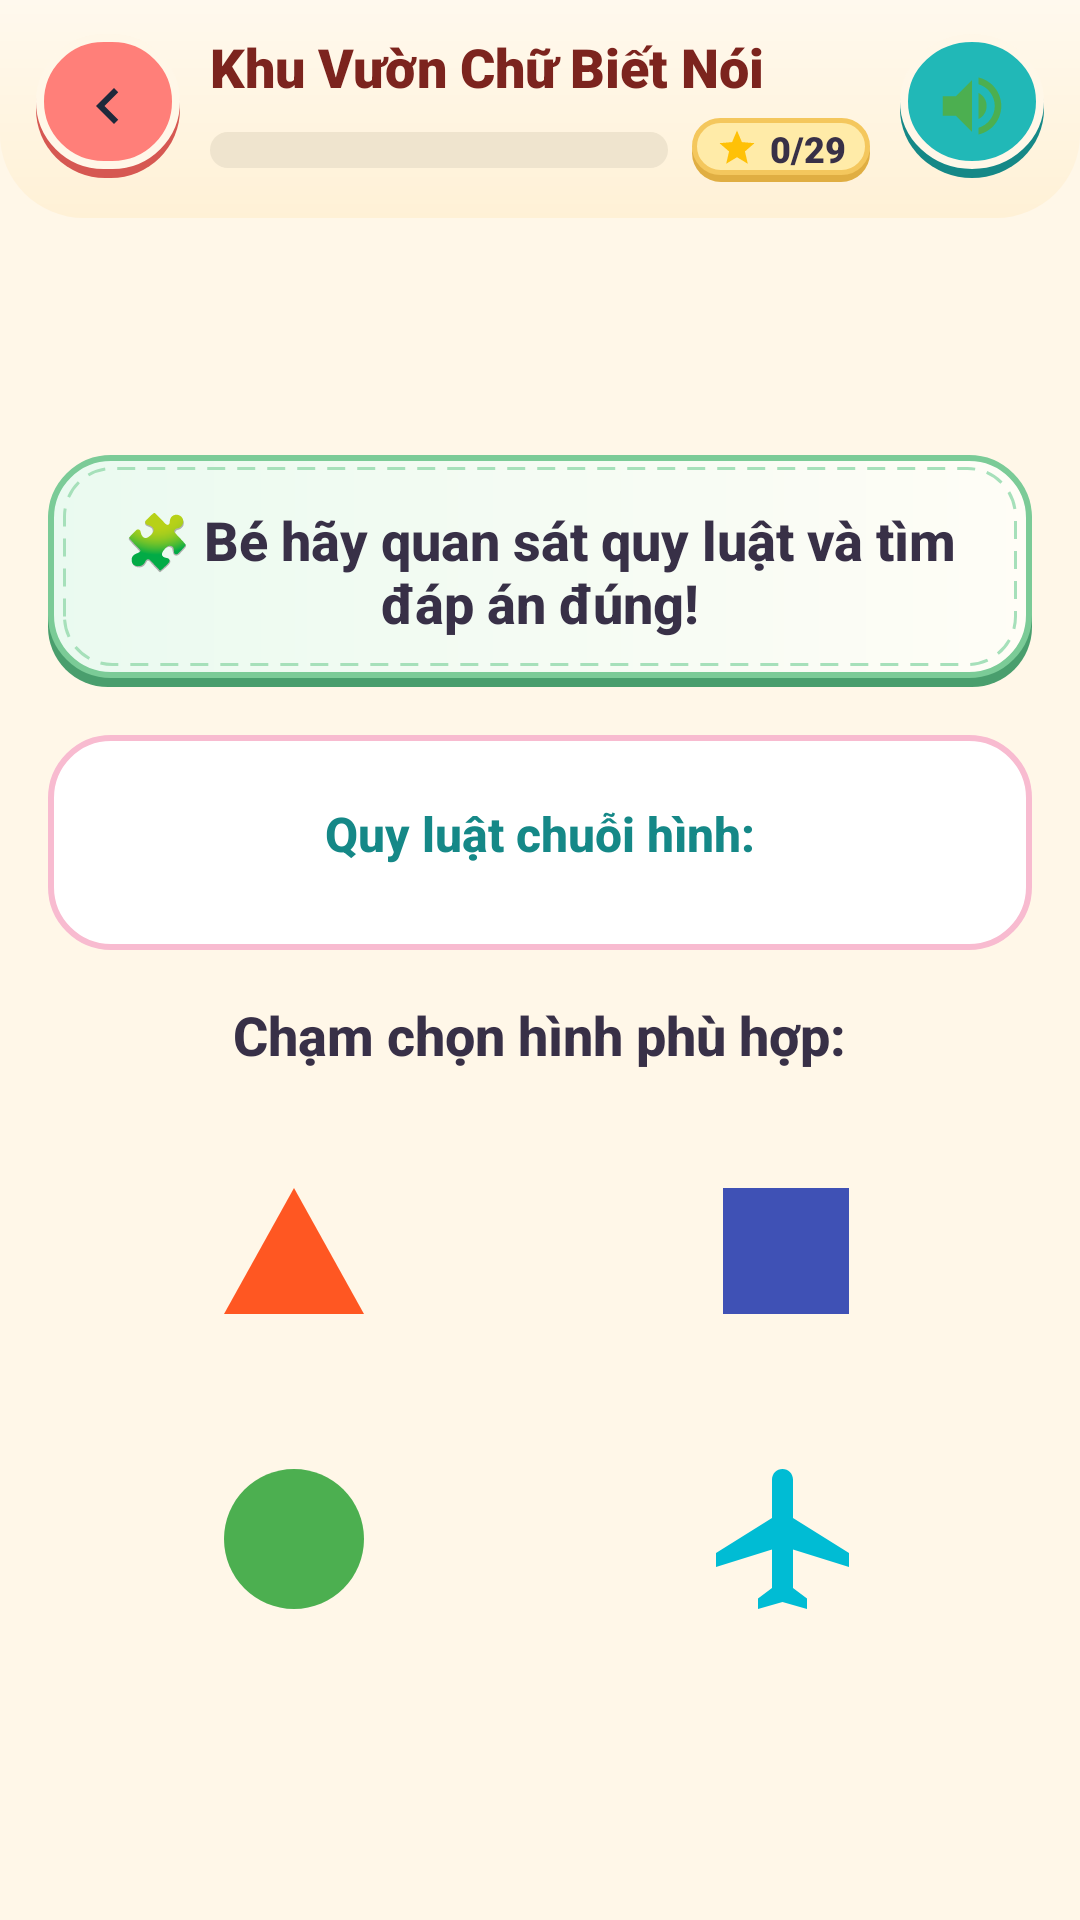

Icons on this 1080 x 1920 Android screen, each with its box as (x1, y1, x2, y2):
Bật hoặc tắt âm thanh ứng dụng: (900, 42, 1044, 178)
Quay lại: (36, 42, 180, 178)
star: (720, 131, 754, 164)
